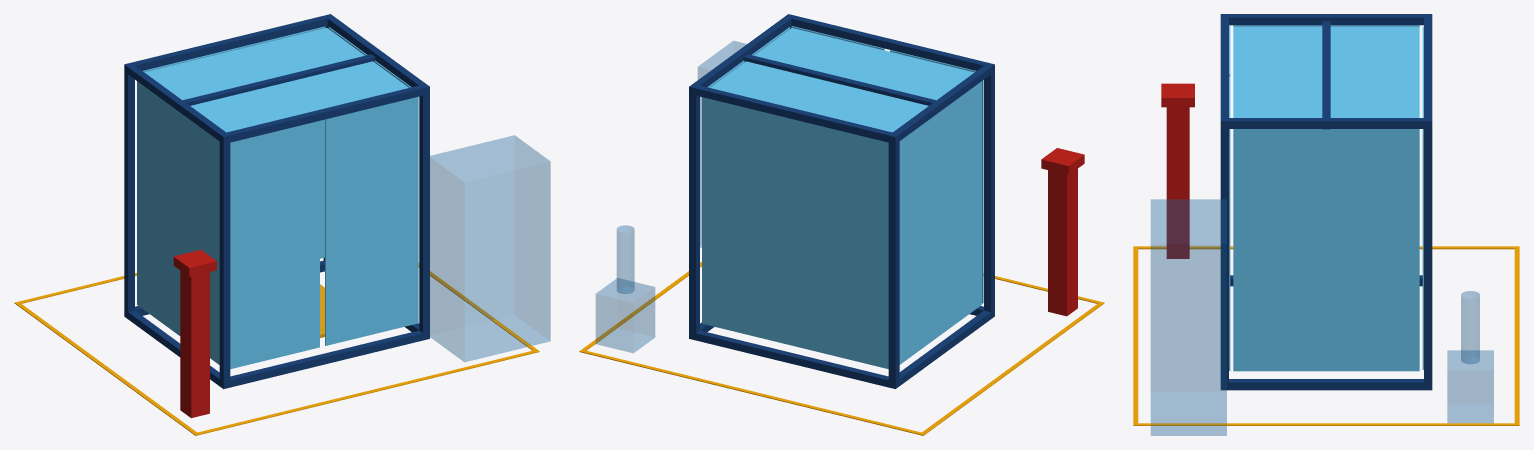
File: HR30_first_energization_cell_structure_candidate.glb
3 renders of one model, left to right at view 1: azimuth 30°, elevation 25°; view 2: azimuth 150°, elevation 25°; view 3: azimuth 270°, elevation 25°, orthographic. The views are drawn at different scales.
Visible parts, largest first — view 1: ST-INSTRUMENT, GP-FRONT-R, GP-FRONT-L, GP-LEFT, GP-ROOF, ST-ESTOP, FR-U-01, FR-U-02, FR-U-03, FR-TX-01, FR-BX-01, FR-TX-02 (+8 smaller); view 2: GP-REAR, GP-LEFT, GP-ROOF, ST-ESTOP, ST-FIRE, FR-U-03, FR-U-04, FR-U-01, FR-TX-02, FR-BX-02, FR-TX-01, FR-TC-01 (+8 smaller); view 3: GP-RIGHT, ST-INSTRUMENT, GP-ROOF, ST-FIRE, ST-ESTOP, FR-U-02, FR-U-04, FR-BY-02, FR-TY-01, FR-TY-02, EZ-RIGHT, EZ-FRONT (+7 smaller).
Boxes of the visible parts, left/top/right/bottom form: ST-INSTRUMENT: left=430, top=135, right=550, bottom=361; GP-FRONT-R: left=325, top=96, right=418, bottom=345; GP-FRONT-L: left=230, top=121, right=319, bottom=369; GP-LEFT: left=137, top=81, right=219, bottom=364; GP-ROOF: left=144, top=28, right=408, bottom=132; ST-ESTOP: left=173, top=249, right=216, bottom=418; FR-U-01: left=219, top=138, right=230, bottom=383; FR-U-02: left=419, top=90, right=429, bottom=336; FR-U-03: left=124, top=68, right=134, bottom=313; FR-TX-01: left=219, top=84, right=429, bottom=143; FR-BX-01: left=219, top=330, right=429, bottom=389; FR-TX-02: left=124, top=14, right=334, bottom=73; GP-REAR: left=702, top=97, right=888, bottom=368; GP-LEFT: left=899, top=81, right=981, bottom=364; GP-ROOF: left=710, top=28, right=974, bottom=132; ST-ESTOP: left=1041, top=148, right=1084, bottom=316; ST-FIRE: left=596, top=225, right=654, bottom=352; FR-U-03: left=888, top=138, right=899, bottom=384; FR-U-04: left=689, top=90, right=699, bottom=336; FR-U-01: left=984, top=68, right=994, bottom=313; FR-TX-02: left=689, top=84, right=899, bottom=143; FR-BX-02: left=689, top=330, right=899, bottom=388; FR-TX-01: left=785, top=14, right=994, bottom=73; FR-TC-01: left=743, top=54, right=935, bottom=105; GP-RIGHT: left=1233, top=129, right=1419, bottom=371; ST-INSTRUMENT: left=1151, top=199, right=1226, bottom=435; GP-ROOF: left=1233, top=26, right=1419, bottom=117; ST-FIRE: left=1447, top=291, right=1493, bottom=422; ST-ESTOP: left=1161, top=83, right=1194, bottom=258; FR-U-02: left=1220, top=125, right=1228, bottom=386; FR-U-04: left=1424, top=125, right=1432, bottom=386; FR-BY-02: left=1229, top=379, right=1423, bottom=390; FR-TY-01: left=1229, top=14, right=1423, bottom=25; FR-TY-02: left=1229, top=118, right=1423, bottom=128; EZ-RIGHT: left=1138, top=423, right=1514, bottom=425; EZ-FRONT: left=1133, top=246, right=1138, bottom=425.
Size of the model in its own units: 2110 by 1400 by 1824.
